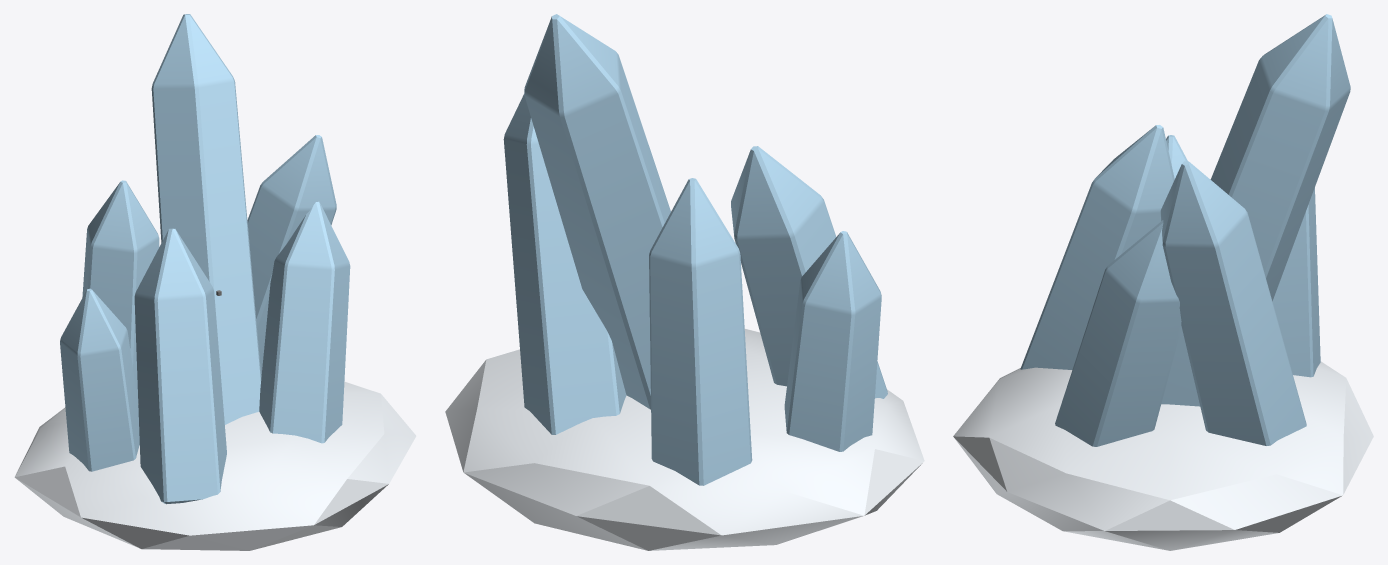
File: IceSpikes.fbx
3 views of the same model, side by side, from view 1: azimuth 30°, elevation 25°; view 2: azimuth 150°, elevation 25°; view 3: azimuth 270°, elevation 25° (orthographic). The views are drawn at different scales.
Visible parts, largest first — view 1: IceSpikes_Ice, IceSpikes_Snow; view 2: IceSpikes_Ice, IceSpikes_Snow; view 3: IceSpikes_Ice, IceSpikes_Snow.
Part boxes in pixels (x1=…): IceSpikes_Ice: x1=60, y1=14, x2=350, y2=504; IceSpikes_Snow: x1=14, y1=381, x2=416, y2=550; IceSpikes_Ice: x1=503, y1=14, x2=887, y2=485; IceSpikes_Snow: x1=445, y1=329, x2=924, y2=550; IceSpikes_Ice: x1=1020, y1=14, x2=1350, y2=446; IceSpikes_Snow: x1=953, y1=361, x2=1373, y2=550.
Size of the model in its own units: 388 by 468 by 357.
